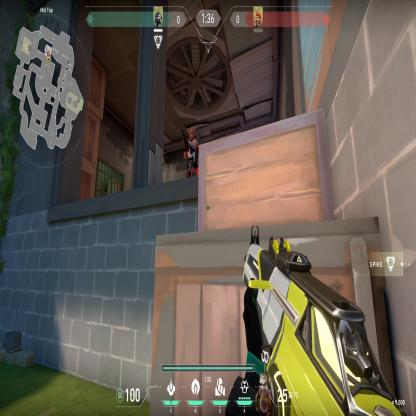enemy: (181, 127, 202, 181)
